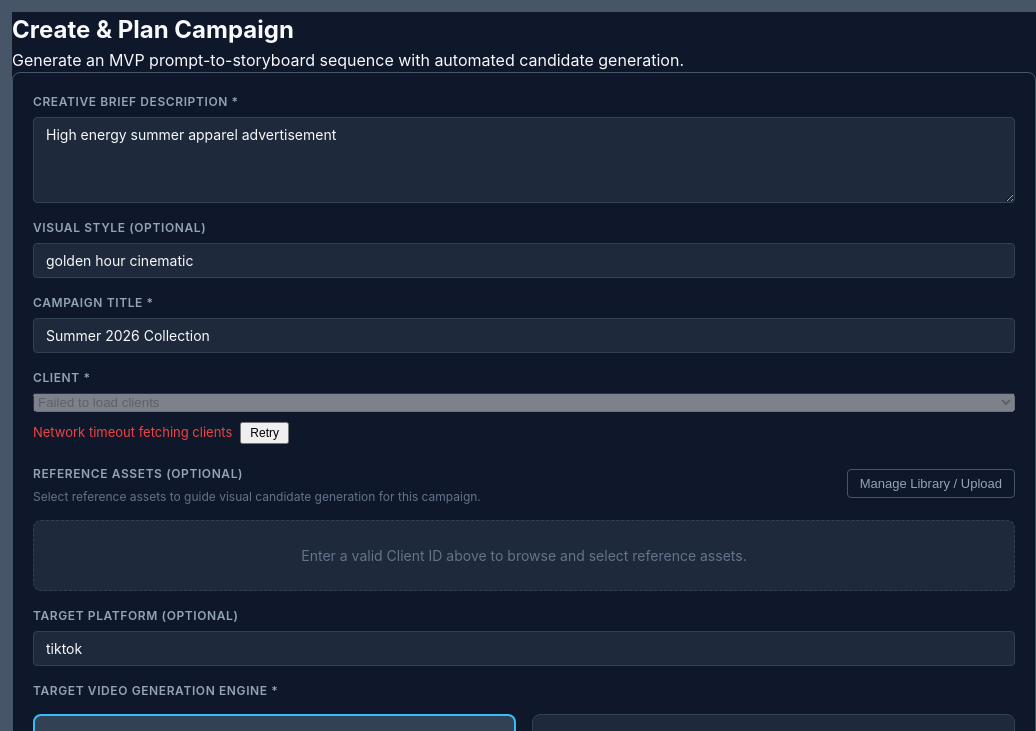
Test case: CampaignCreationForm Component › Client Selection Dropdown Integration (#430) › handles client fetch error and supports retry
Expected: the element with test id "client-list-error" is shown, top-left (33, 422), bottom-right (289, 444)
Expected: the element with test id "client-list-error" shows "Network timeout fetching clients", top-left (33, 424), bottom-right (232, 440)
Step 1. Click the button with test id "retry-clients-button" → (265, 433), box top-left (240, 422), bottom-right (289, 444)
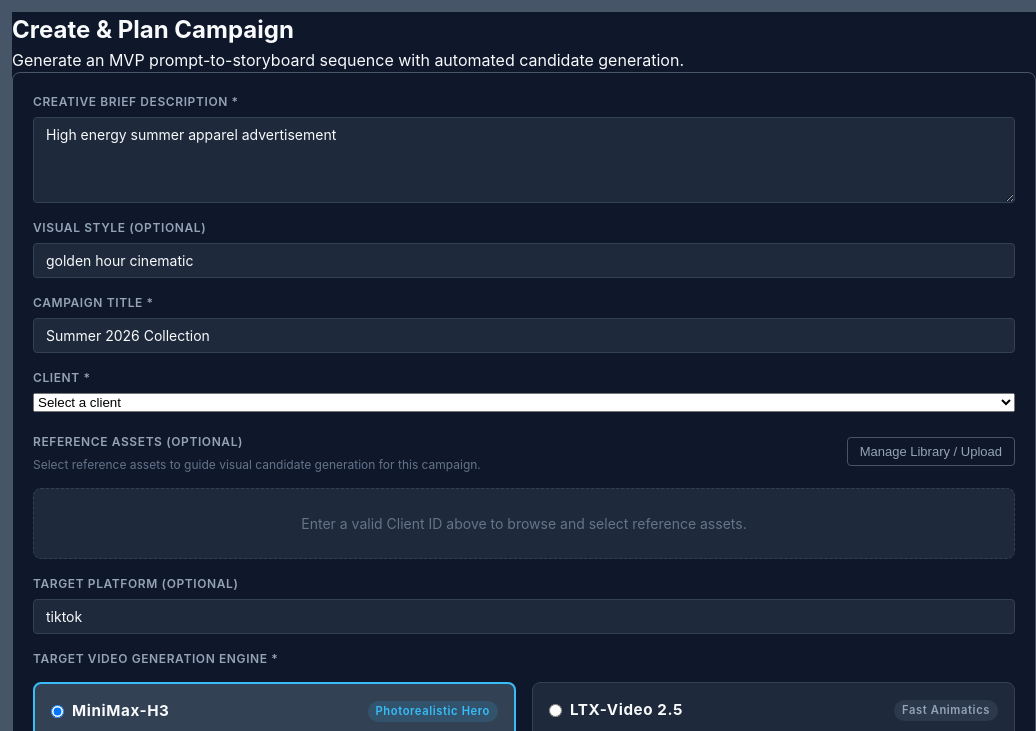
Now the element with test id "client-list-error" is gone
